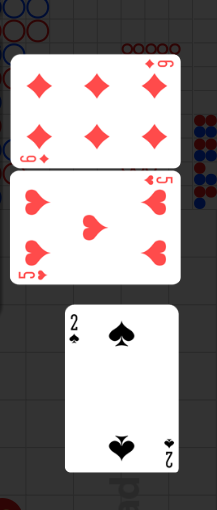2S: (162, 436, 175, 469)
5H: (17, 269, 49, 282)
6D: (143, 58, 175, 70)
